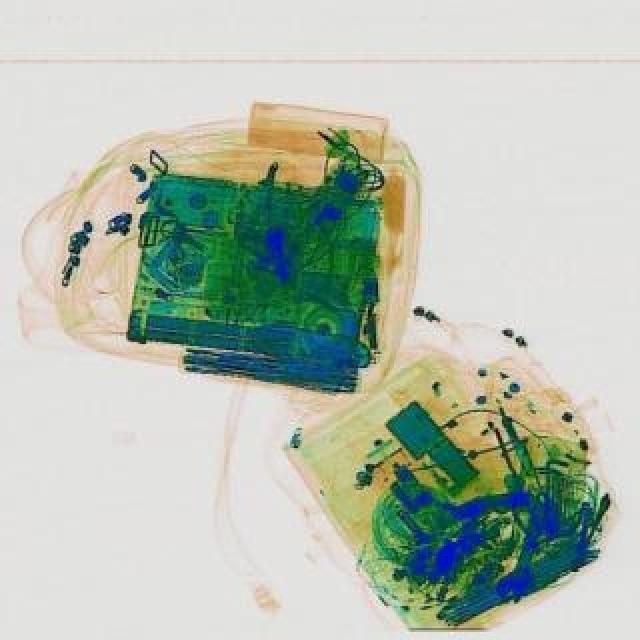scissors: (492, 484, 560, 608)
